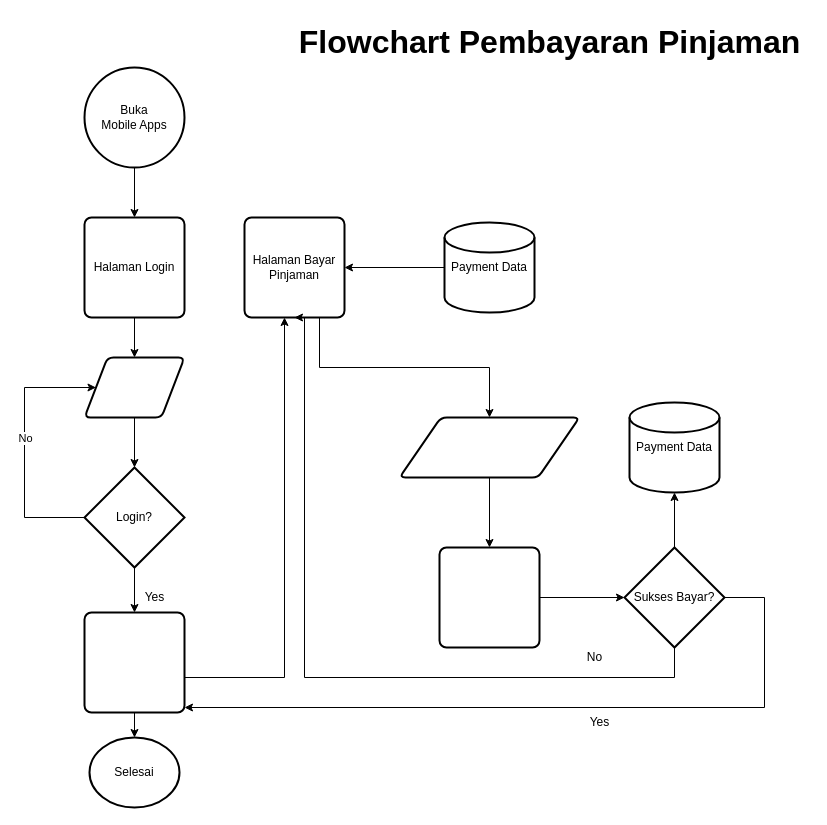
This 827x825 diagram has some shape labels left out. The shapes that lost their labels are listed below. From the top down, each one's box as (x1, y1, x2, y2) in pixels, then its label:
(83, 356, 185, 418): Isi Email Isi Password
(398, 416, 580, 478): Isi Jumlah Bayar
(438, 546, 540, 648): Payment Gateway
(83, 611, 185, 713): Halaman Utama
